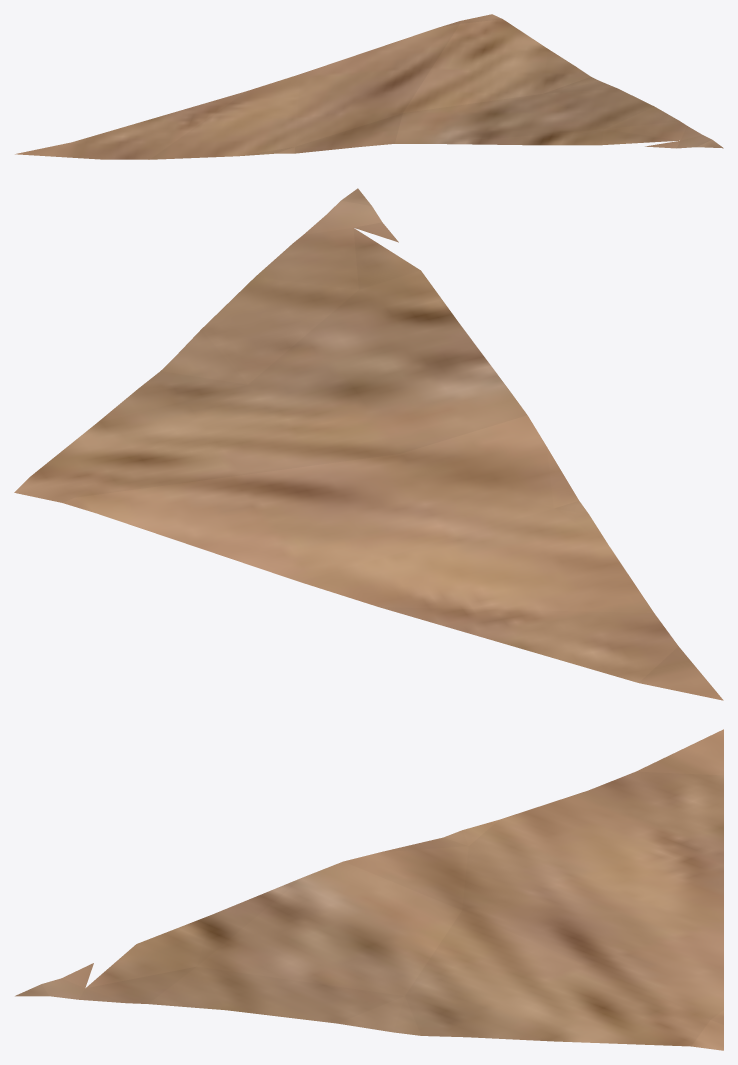
3 renders of one model, top to bottom at view 1: azimuth 30°, elevation 25°; view 2: azimuth 150°, elevation 25°; view 3: azimuth 270°, elevation 25°, orthographic. The views are drawn at different scales.
Bounding box in the file's own units: 1.27 × 0.1556 × 1.07.
Materials: 1 (1 with a texture image).
